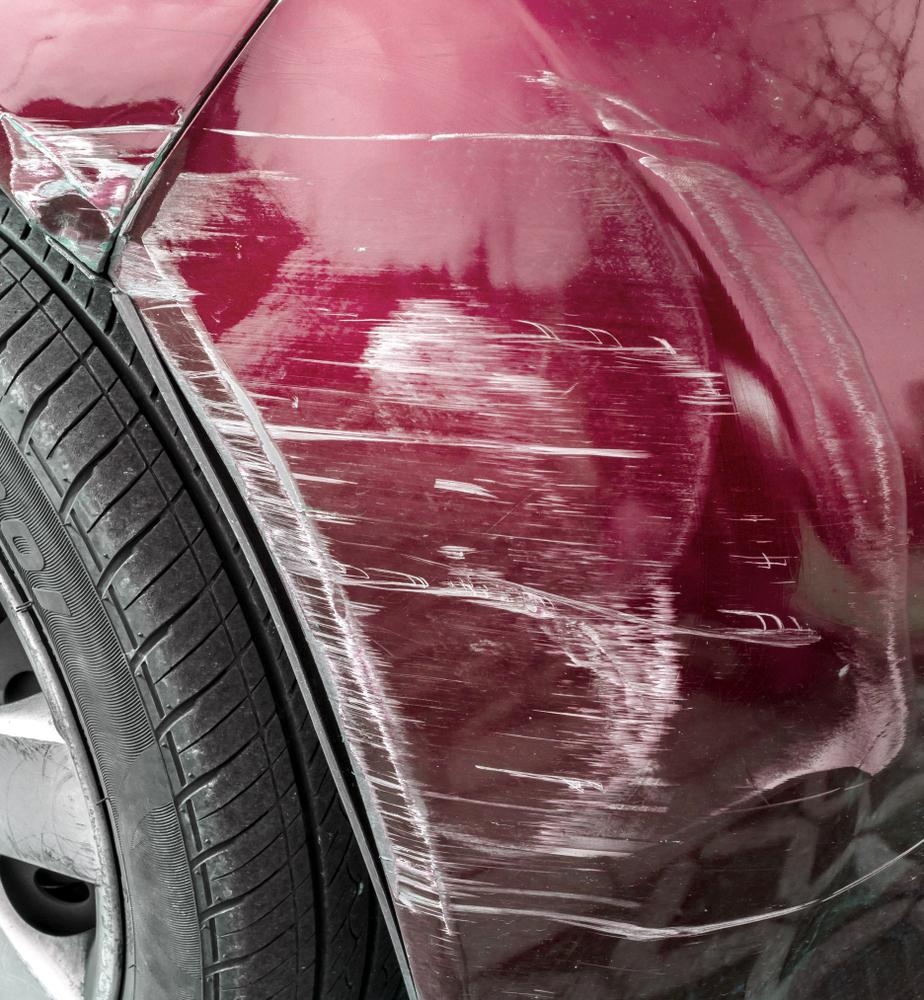dent: (0, 97, 183, 268)
scratch: (103, 67, 924, 970)
